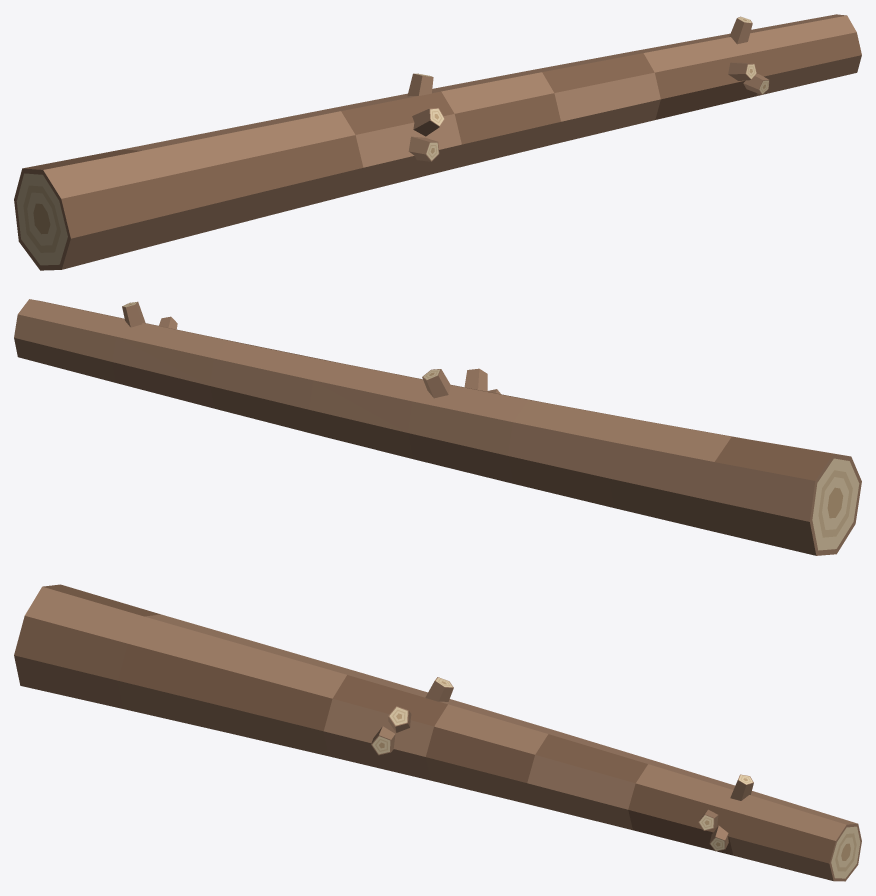
File: pine_trunk.glb
The picture shows the model from 3 angles, top to bottom: view 1: azimuth 30°, elevation 25°; view 2: azimuth 150°, elevation 25°; view 3: azimuth 330°, elevation 25°; orthographic projection.
Visible parts, largest first — view 1: PineTrunk; view 2: PineTrunk; view 3: PineTrunk.
Part boxes in pixels (x1,y1,x2,y2): PineTrunk: (14, 14, 861, 270); PineTrunk: (14, 299, 861, 555); PineTrunk: (14, 584, 861, 881).
Bounding box in the file's own units: 3.61 × 0.4268 × 0.4224.
